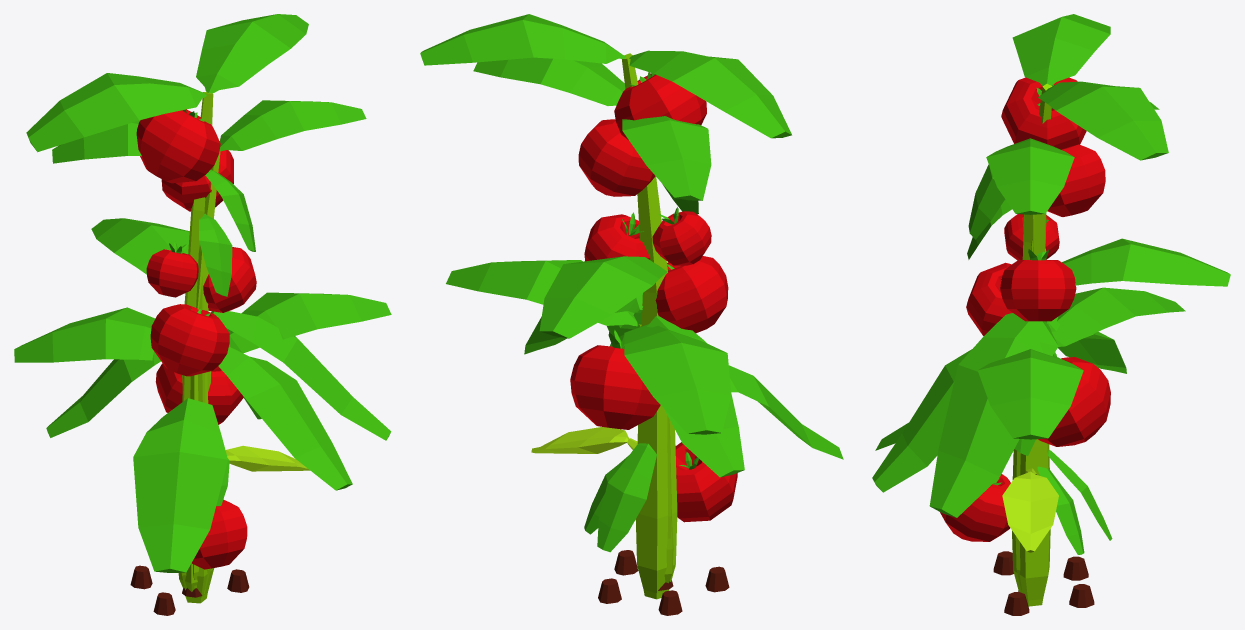
Rendered from tomate.glb.
3 renders of one model, left to right at view 1: azimuth 30°, elevation 25°; view 2: azimuth 150°, elevation 25°; view 3: azimuth 270°, elevation 25°, orthographic. The views are drawn at different scales.
Visible parts, largest first — view 1: stage_5, stage_4, stage_3, stage_2, stage_1; view 2: stage_5, stage_4, stage_3, stage_1, stage_2; view 3: stage_5, stage_4, stage_3, stage_2, stage_1.
Boxes of the visible parts, <box> form: stage_5: <box>26,14,391,603</box>; stage_4: <box>46,100,366,593</box>; stage_3: <box>14,292,391,591</box>; stage_2: <box>225,445,309,471</box>; stage_1: <box>130,565,249,615</box>; stage_5: <box>420,14,843,599</box>; stage_4: <box>473,57,744,538</box>; stage_3: <box>446,260,731,583</box>; stage_1: <box>598,550,729,615</box>; stage_2: <box>531,427,637,453</box>; stage_5: <box>875,14,1230,606</box>; stage_4: <box>872,102,1159,592</box>; stage_3: <box>977,287,1185,439</box>; stage_2: <box>1002,468,1058,552</box>; stage_1: <box>993,551,1094,615</box>.
Bounding box in the file's own units: 1.09 × 1.66 × 0.9628.
